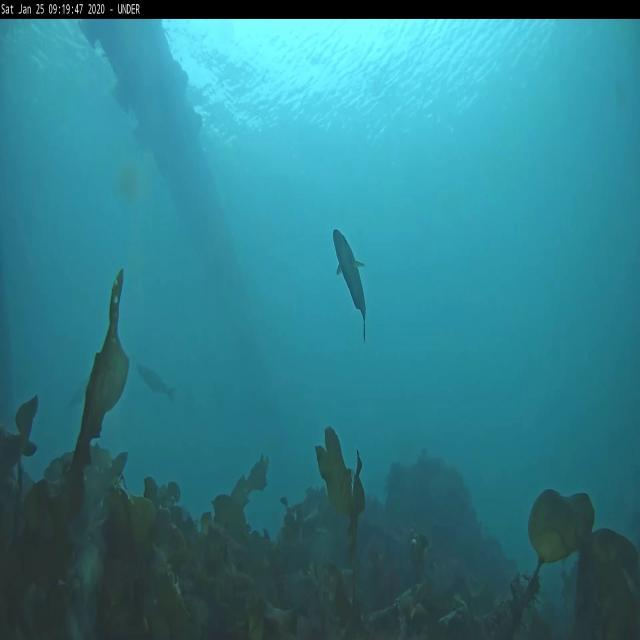fish: (333, 228, 369, 342), (134, 364, 177, 402), (71, 372, 91, 410)
